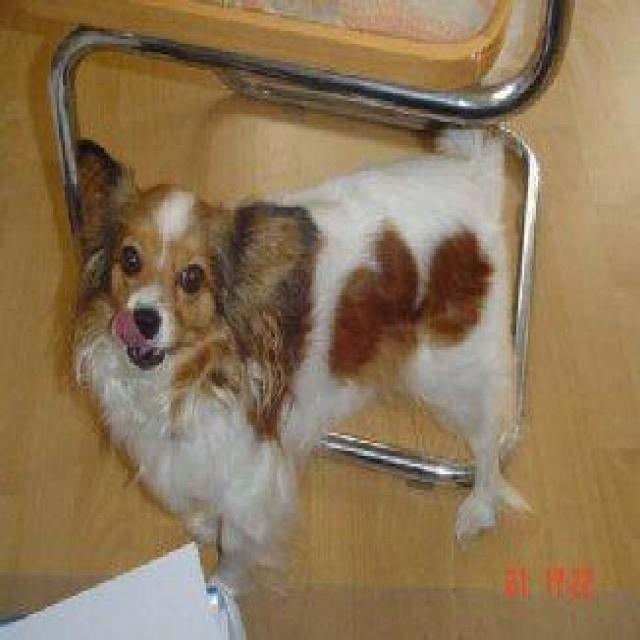papillon: (67, 106, 536, 599)
